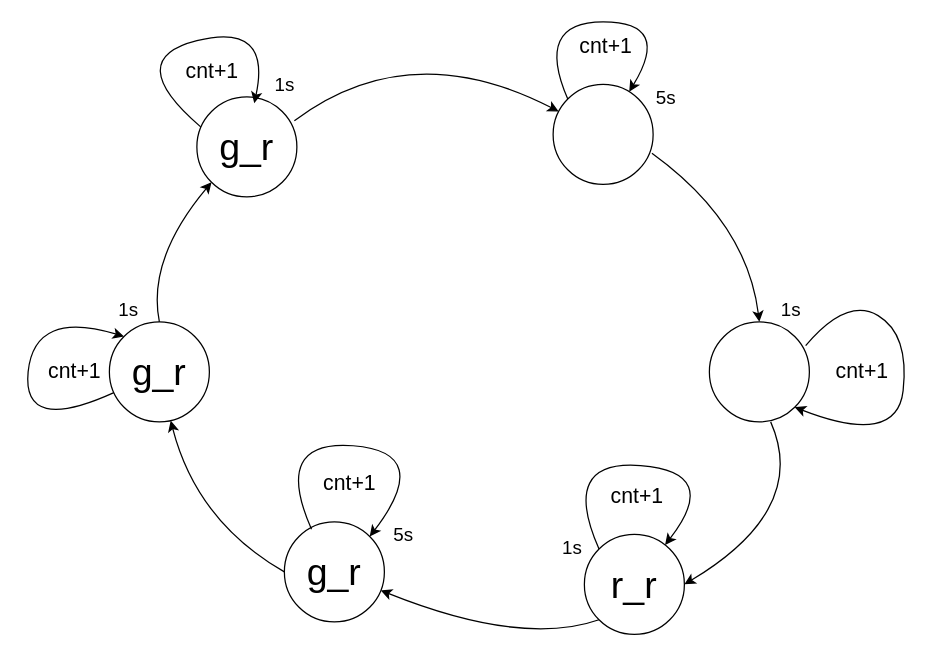
This 936x656 diagram has some shape labels left out. Here are the shapes that lost their labels. From the top down, the box of each, then its label:
(552, 83, 653, 184): r_g
(708, 321, 809, 422): r_y
